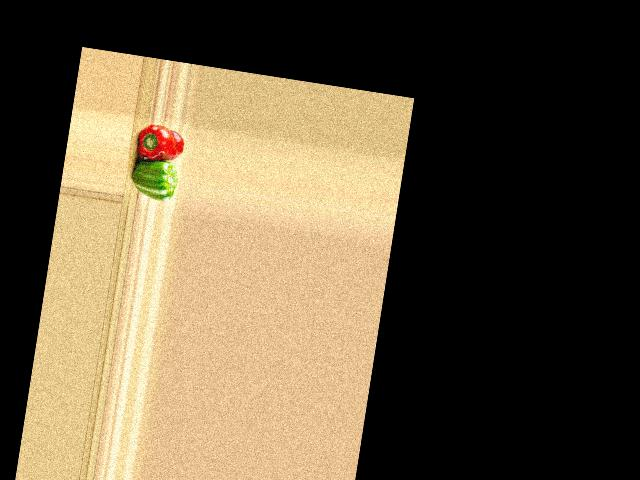bell_pepper: (135, 121, 187, 166)
